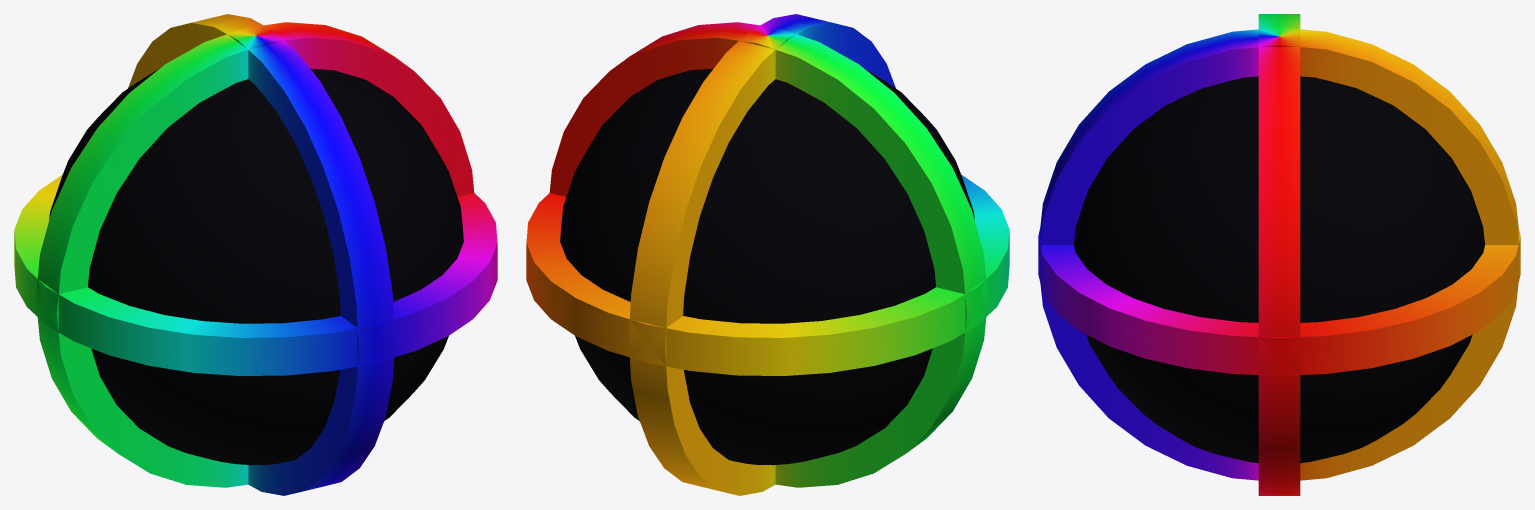
Rendered from Ball-25.dae.
3 views of the same model, side by side, from view 1: azimuth 30°, elevation 25°; view 2: azimuth 150°, elevation 25°; view 3: azimuth 270°, elevation 25° (orthographic).
Parts seen in each view (by area): view 1: Ball; view 2: Ball; view 3: Ball.
Part boxes in pixels (<box>): Ball: <box>14,14,497,495</box>; Ball: <box>526,14,1009,495</box>; Ball: <box>1038,14,1520,495</box>.
Bounding box in the file's own units: 0.046 × 0.046 × 0.046.
Materials: 2 (1 with a texture image).
